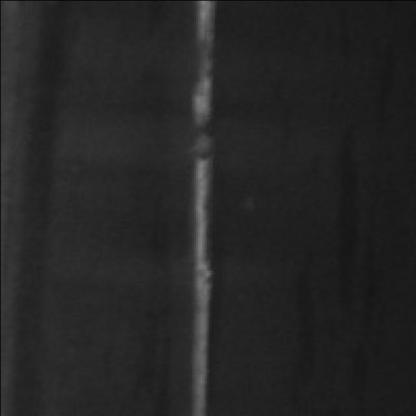scratches: (181, 0, 218, 414)
